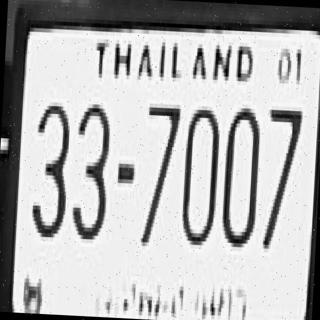N00: (220, 100, 262, 244), (180, 100, 220, 244)
N03: (29, 97, 70, 238), (70, 98, 111, 238)
N07: (262, 100, 302, 248), (140, 98, 180, 242)
